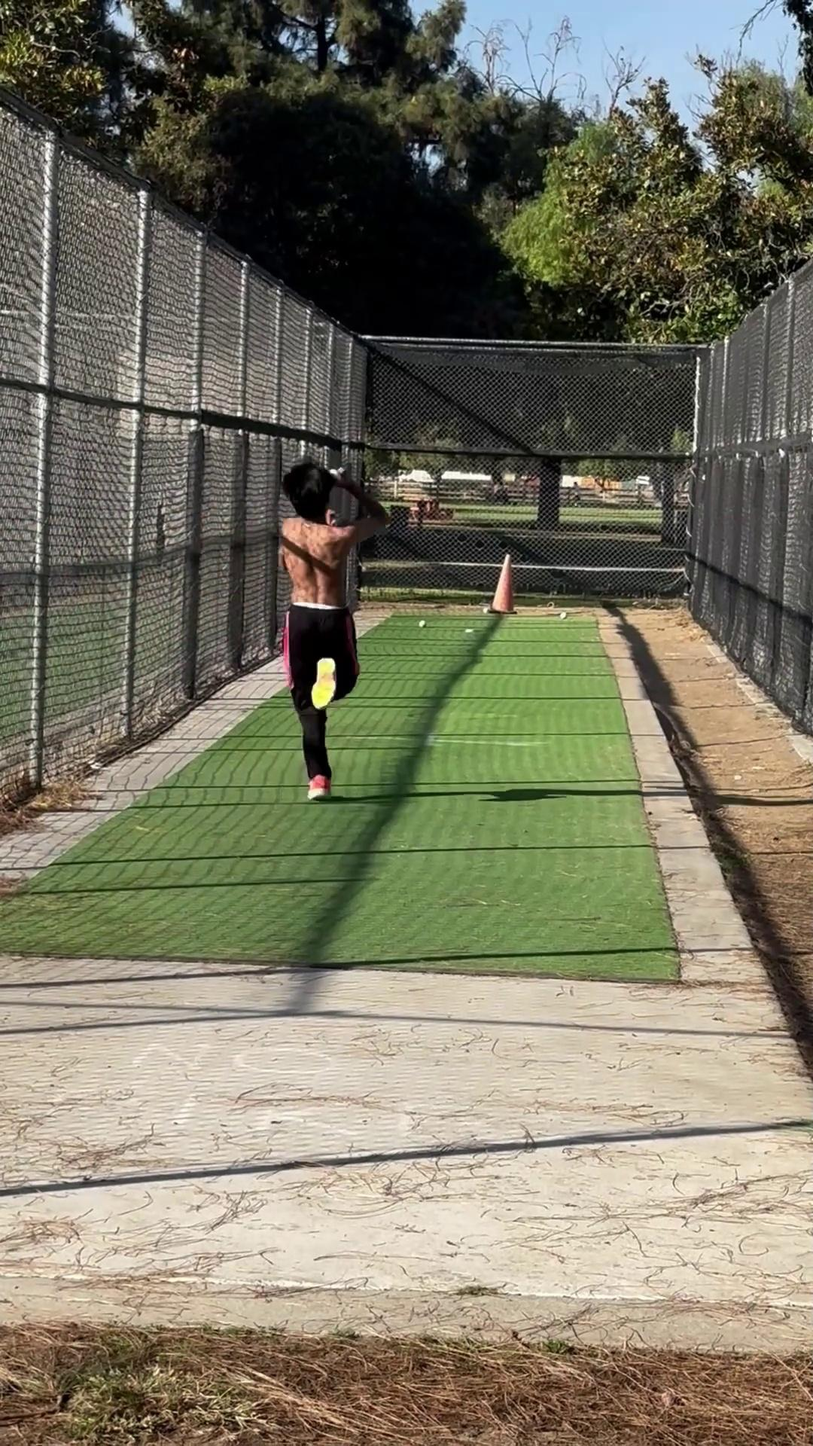ball: (323, 462, 349, 487)
